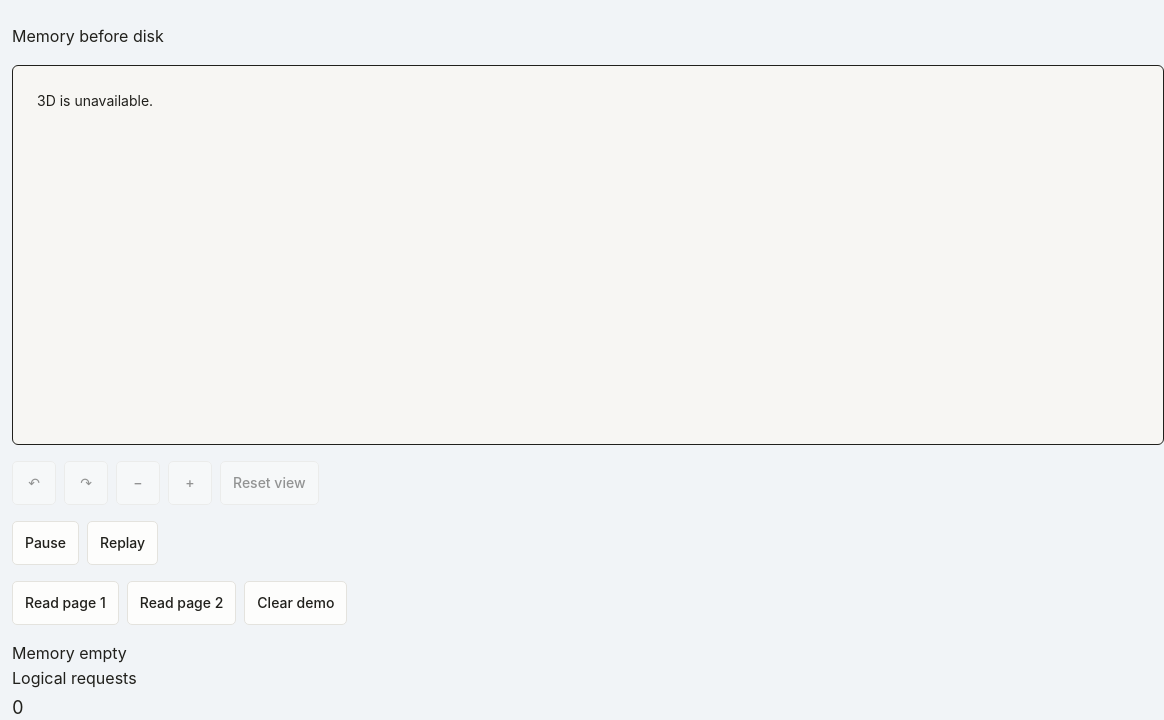
Test: MySQL storage figures › keeps the lesson operable when the renderer fails
Expected: the text "3D is unavailable." is shown, [37, 92, 153, 109]
What coordinates should you click on to do the following:
click the button "Read page 2"
I would click on:
 (182, 603)
Its box is [127, 581, 236, 625].
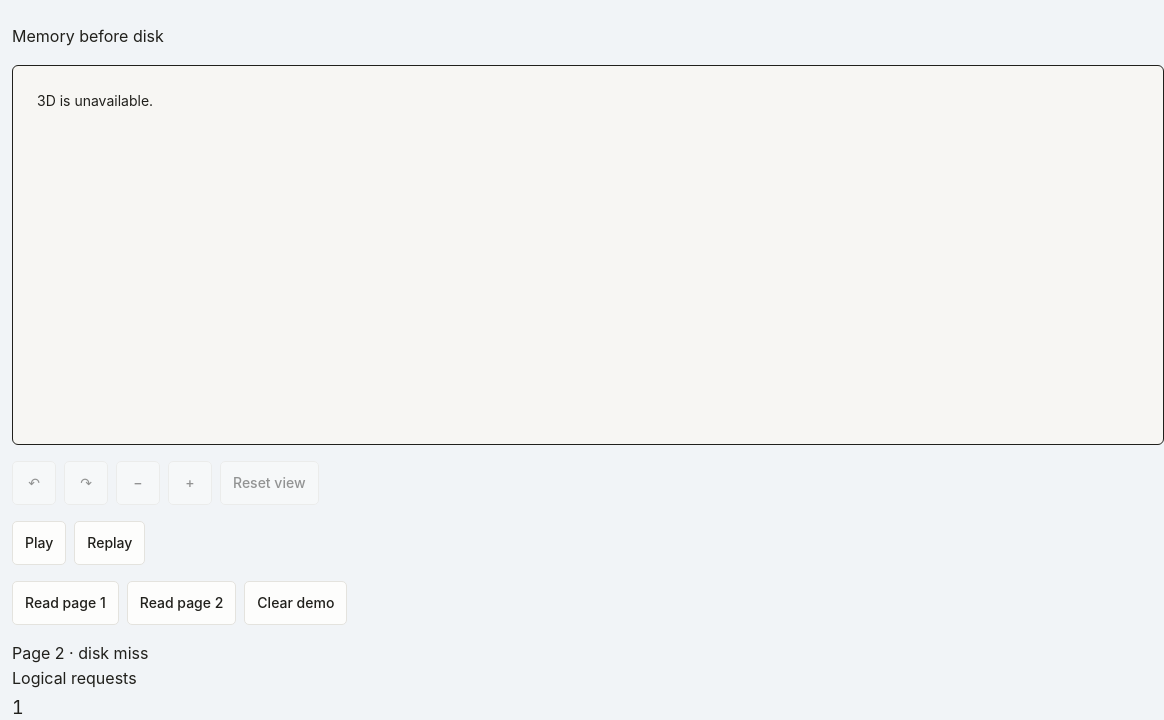
What coordinates should you click on to do the following:
click the button "Read page 2"
I would click on:
 (182, 603)
Its box is [127, 581, 236, 625].
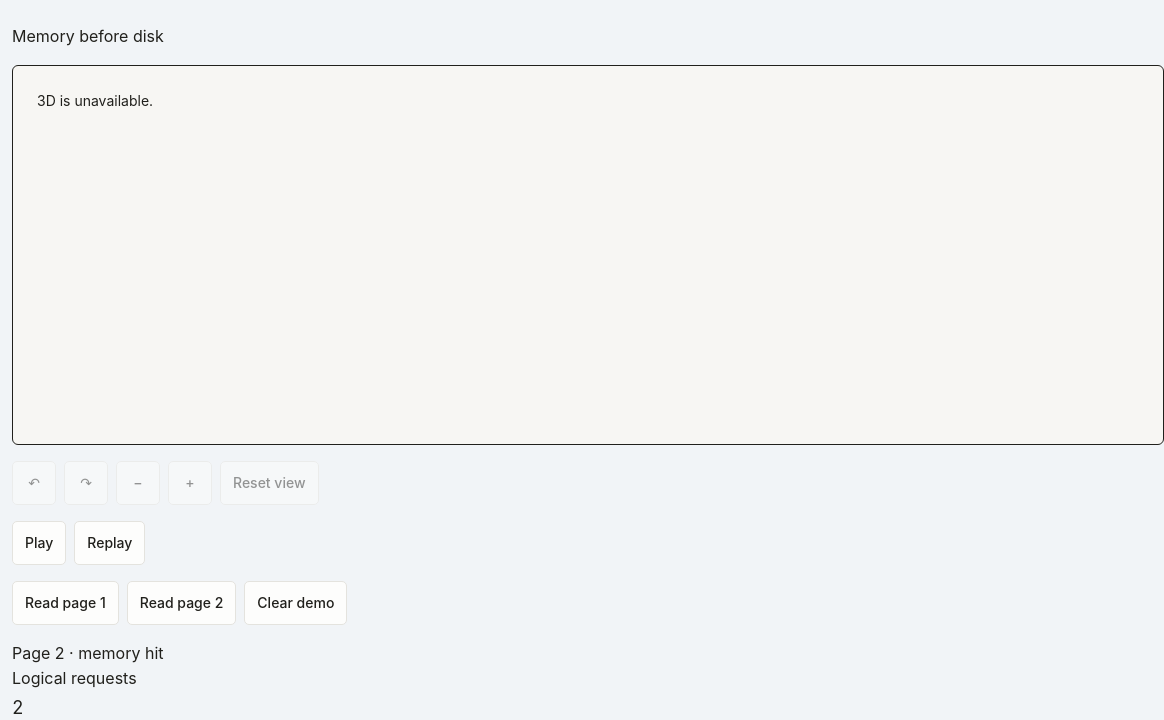
Expected: the message shows "memory hit", [12, 643, 164, 663]
What coordinates should you click on to do the following:
click the button "Clear demo"
I would click on:
 (296, 603)
Its box is [244, 581, 347, 625].
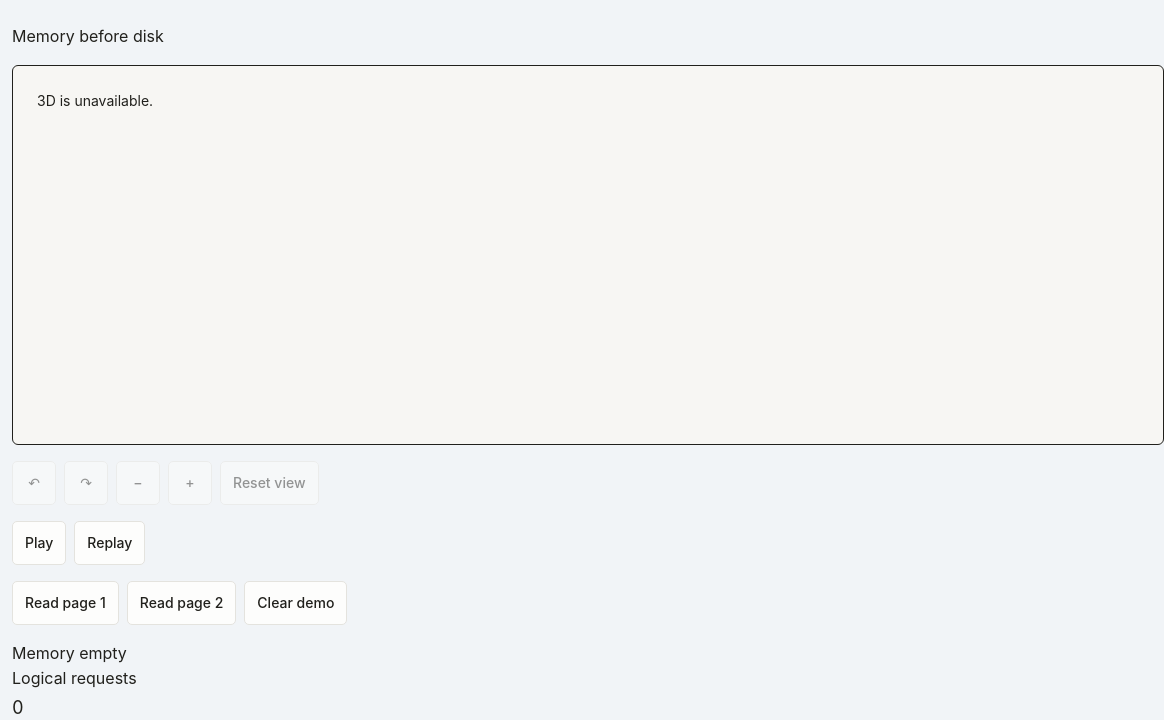
Expected: the message reads "Memory empty", [12, 643, 127, 663]
